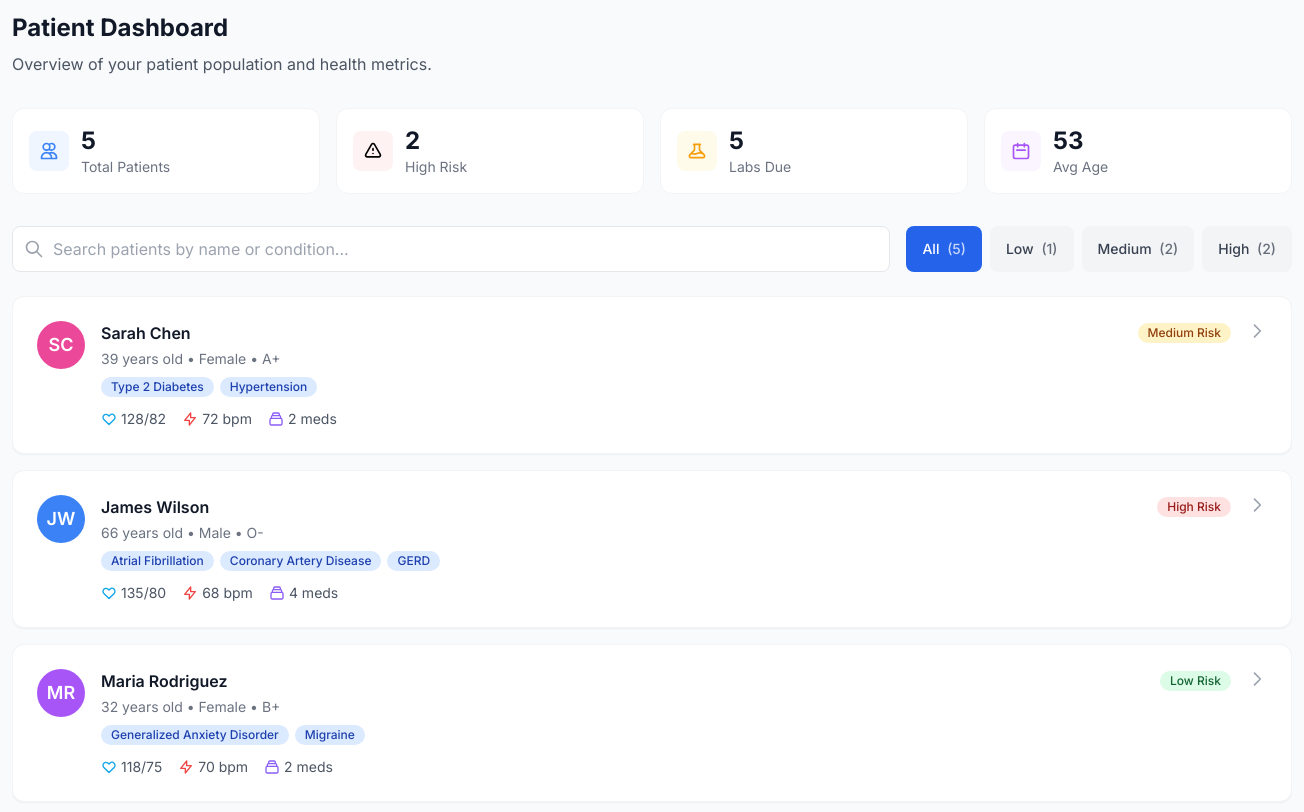
Test case: Dashboard › filters by low risk
Click the button "low (1)".
click(1032, 249)  # box [990, 226, 1074, 272]
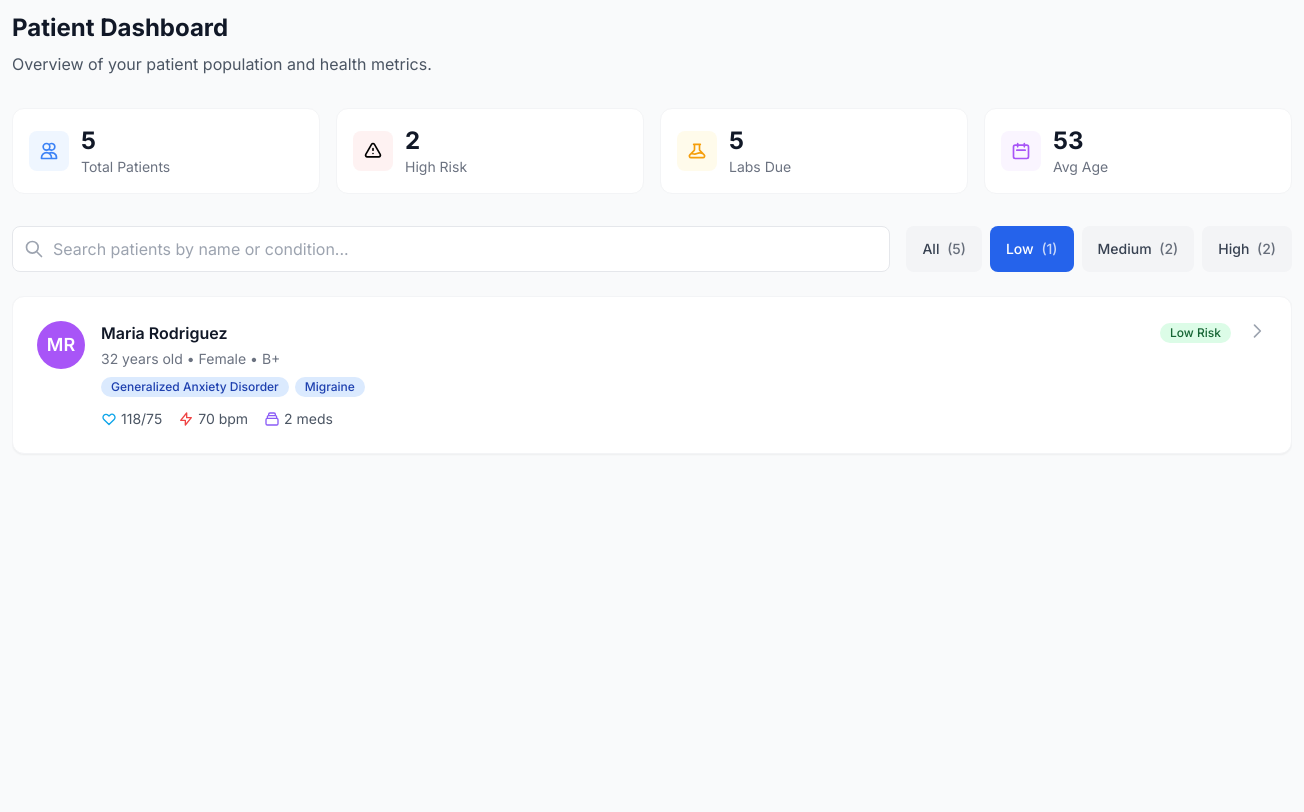
Check: the text "Maria Rodriguez" is shown, box [101, 321, 227, 345]
Check: the text "James Wilson" is gone
